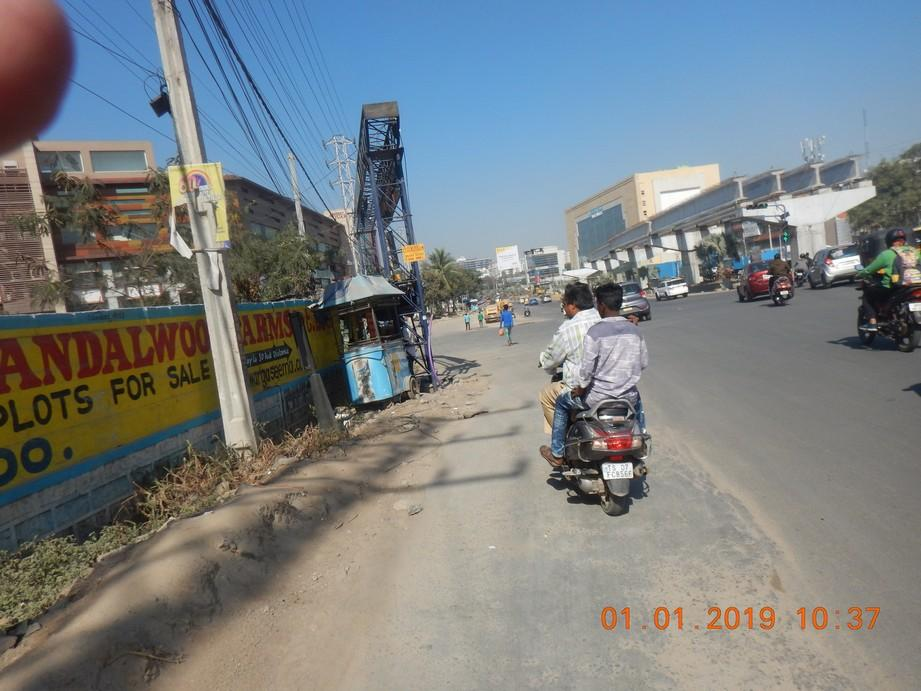plate: (602, 463, 635, 480)
